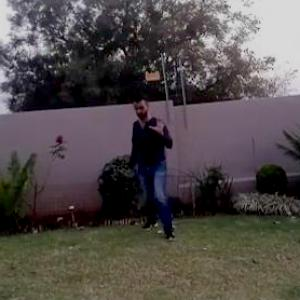follow_hand: (148, 110, 169, 137)
